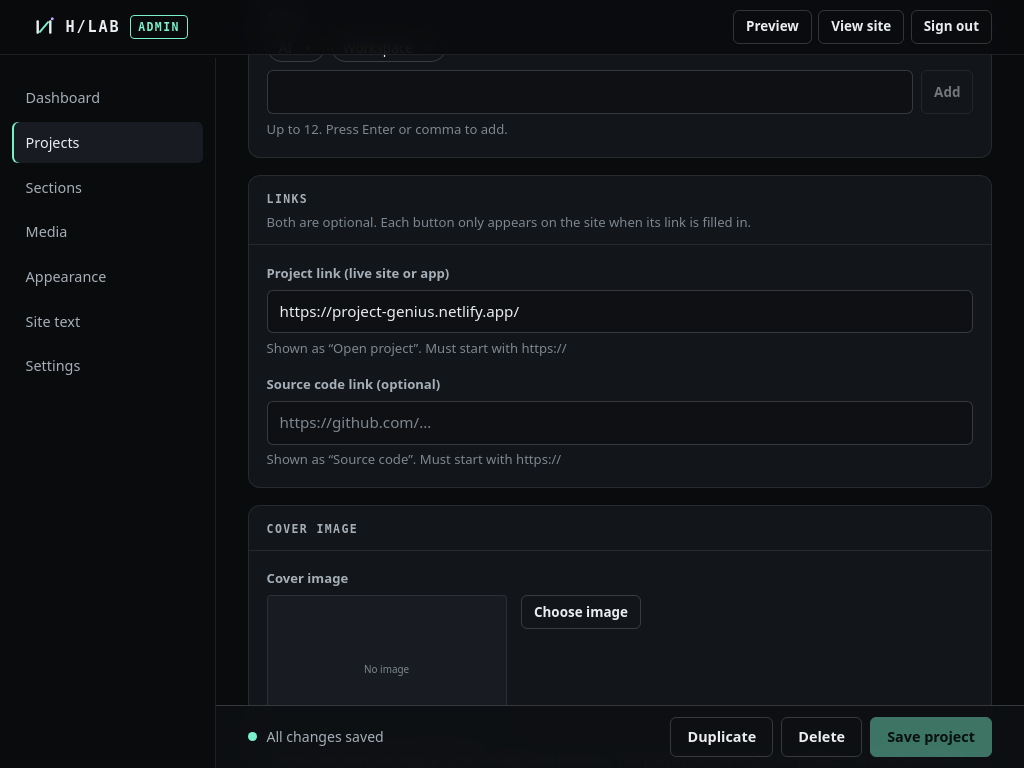
it: admin project editor: images and links › validates Source code link = javascript:alert(1) and saves nothing
The image size is (1024, 768).
(page scrolled)
Type "javascript:alert(1)" into the field labelled "Source code link (optional)" at {"x": 620, "y": 423}, box [267,401,973,444]
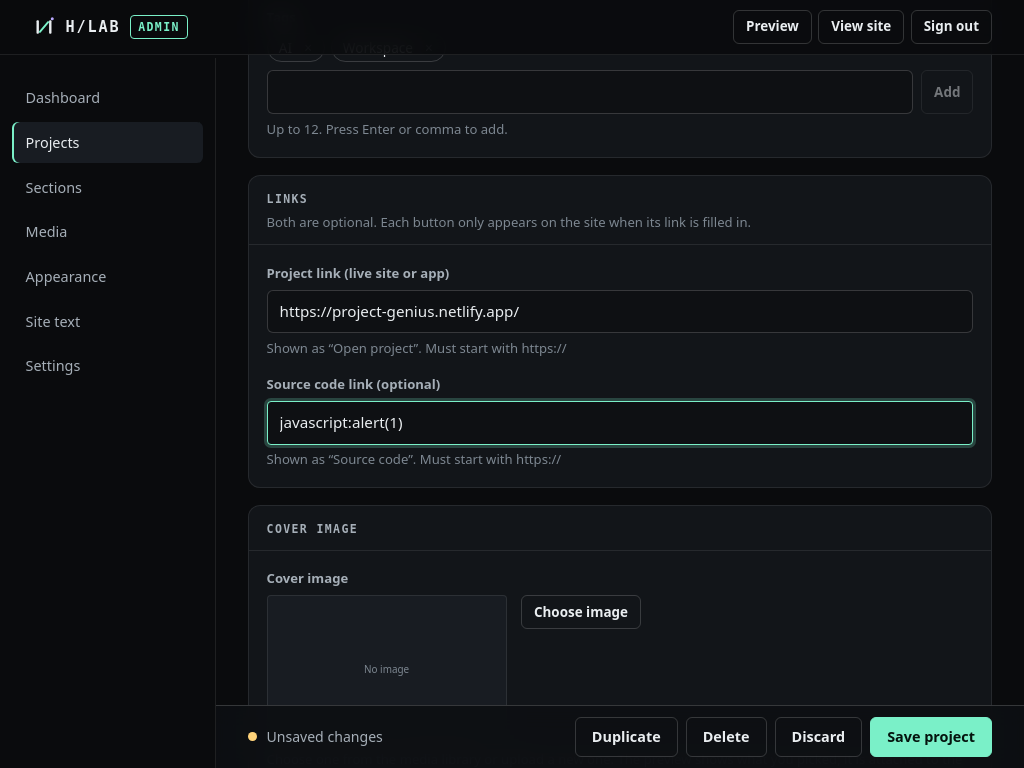
Click the button "Save project" at {"x": 931, "y": 737}, box [870,717,992,757]
(page scrolled)
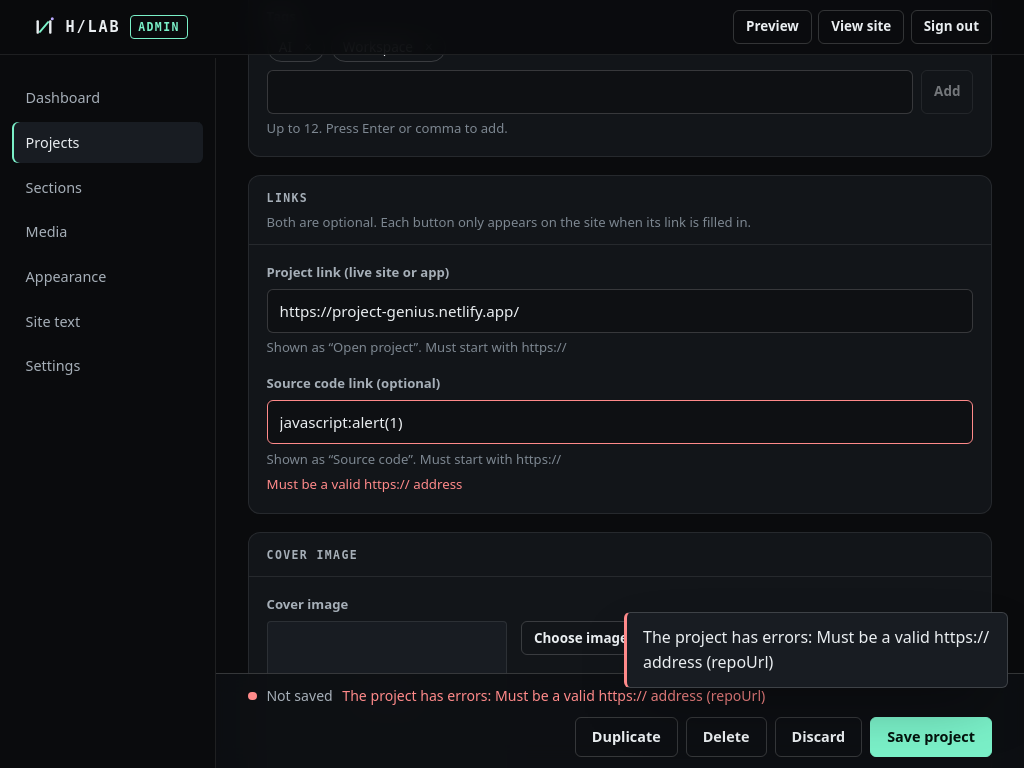
expect the text "Must be a valid https:// address" is shown: met, box [267,475,462,493]
